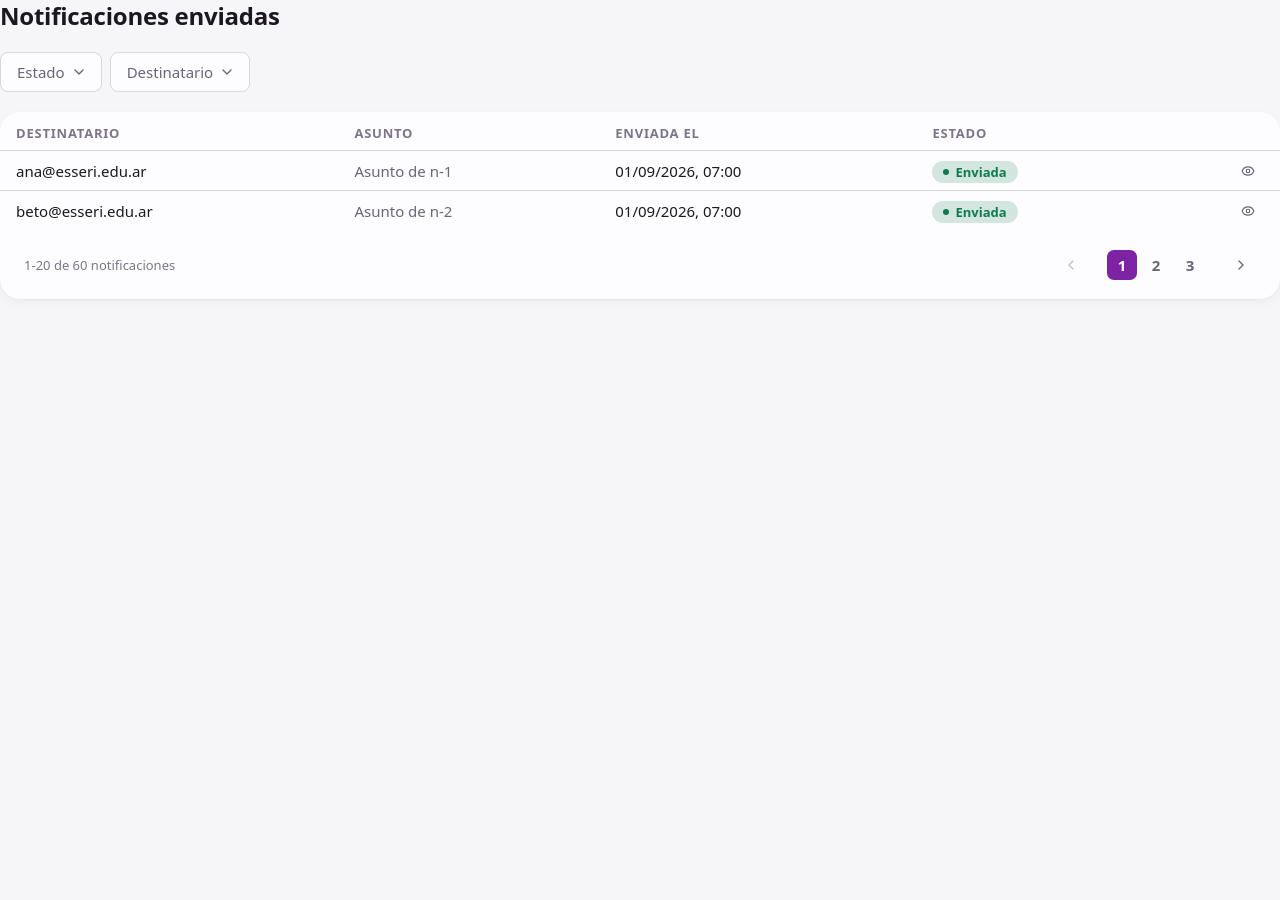
Test: NotificacionesPage › muestra el error cuando falla el detalle
Click the button named "Ver detalle": coordinates (1248, 170) [1232, 154, 1264, 186]
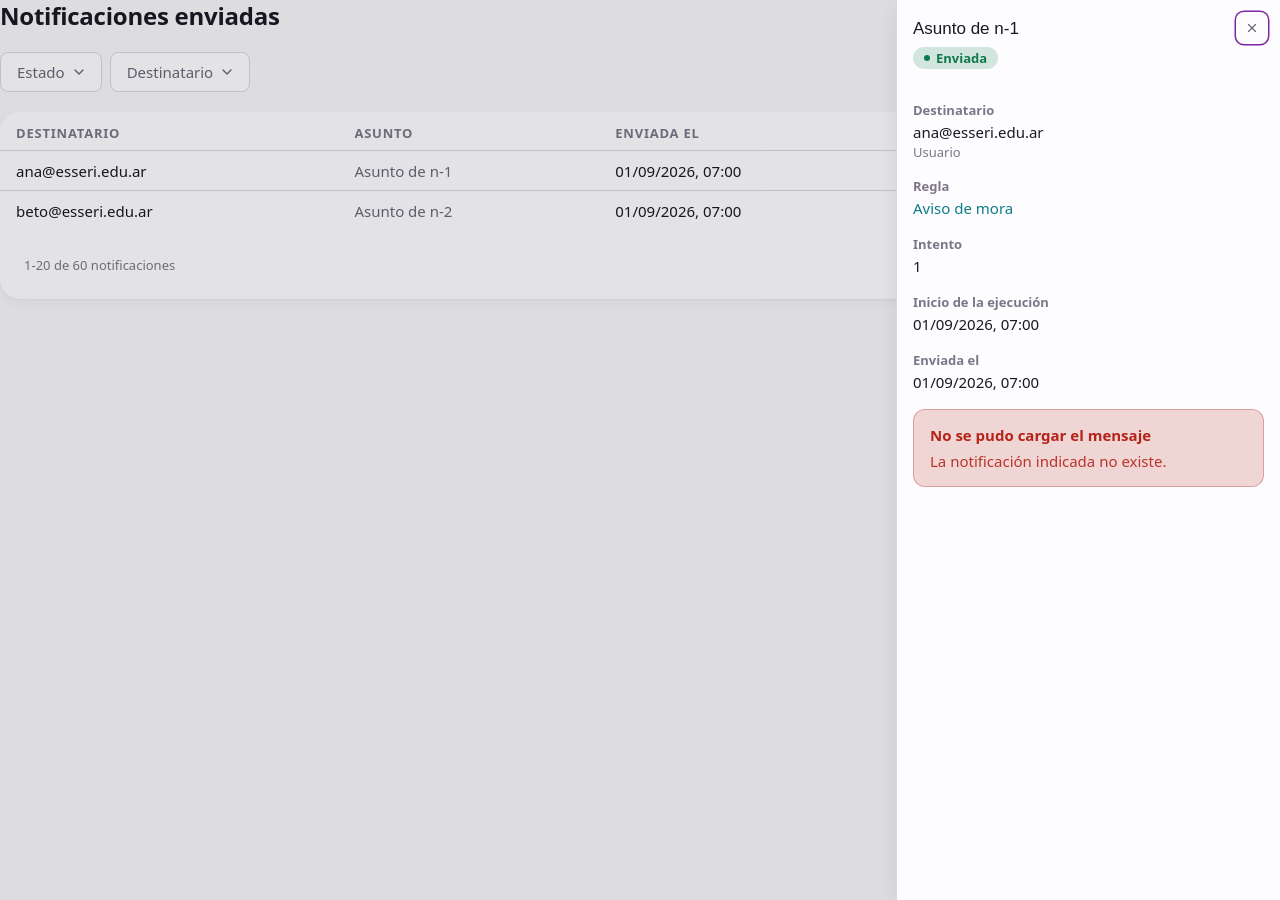
Expected: the text "La notificación indicada no existe." is shown, [930, 451, 1166, 471]
